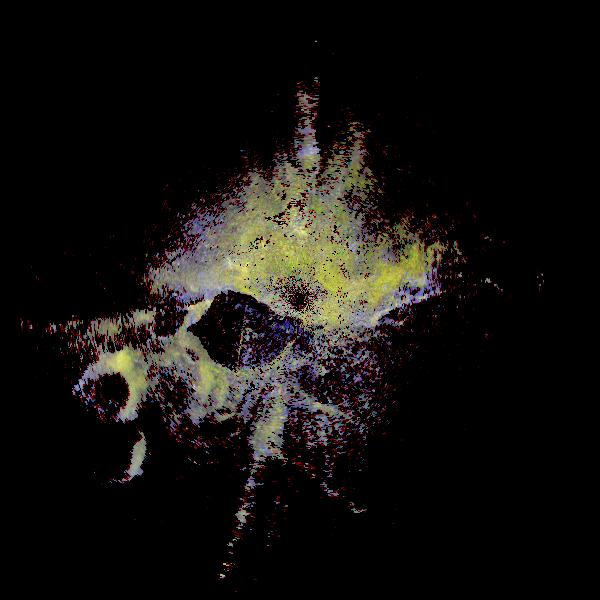roost: (307, 211, 406, 310), (138, 326, 225, 413), (69, 349, 153, 433), (73, 410, 157, 494), (238, 213, 310, 285)
